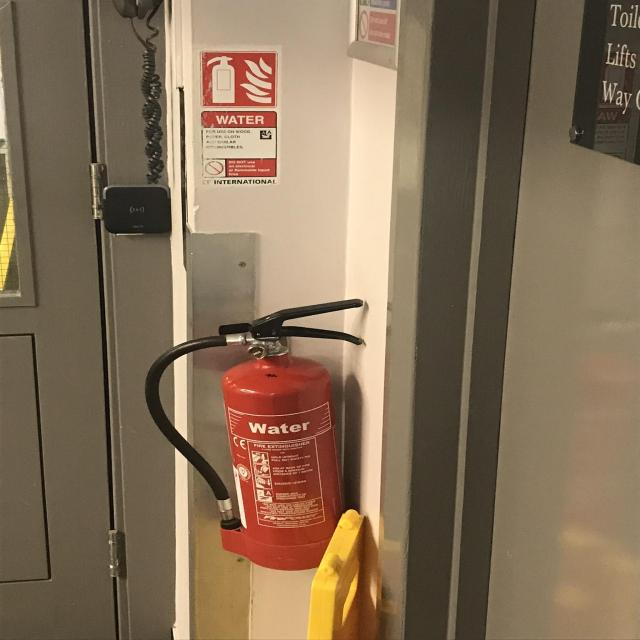fire_extinguisher: (140, 296, 370, 576)
